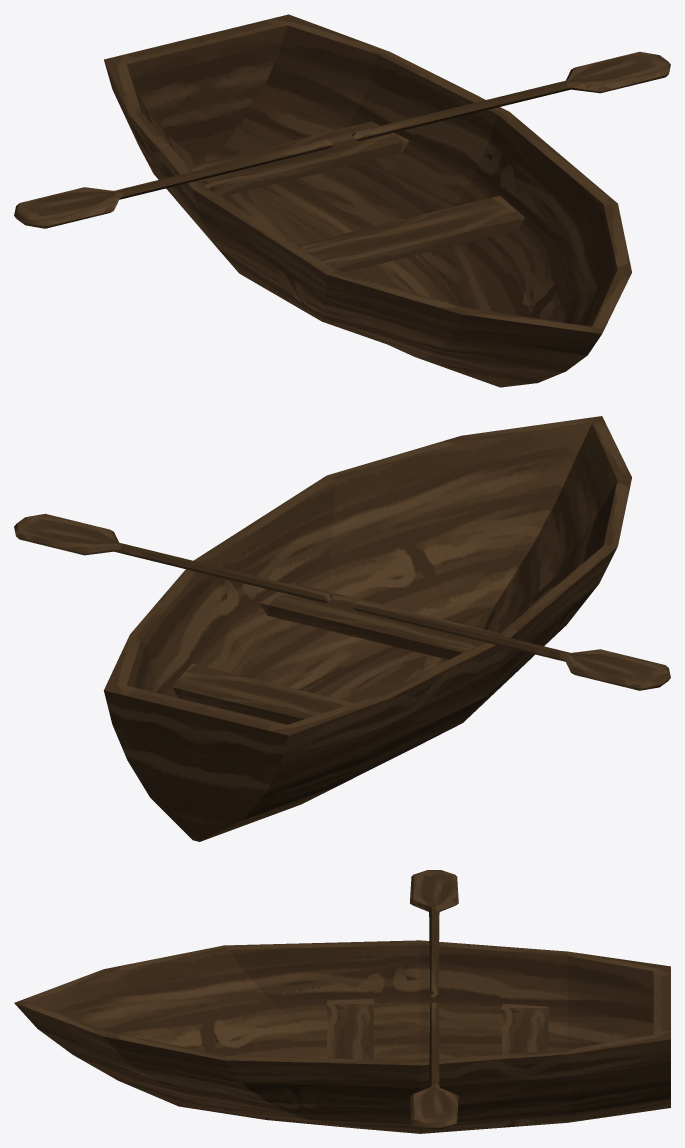
Rendered from RowBoat_Geo.fbx.
The picture shows the model from 3 angles, top to bottom: view 1: azimuth 30°, elevation 25°; view 2: azimuth 150°, elevation 25°; view 3: azimuth 270°, elevation 25°; orthographic projection. The views are drawn at different scales.
Visible parts, largest first — view 1: RowBoat_Geo, Paddle01_Geo, Paddle02_Geo; view 2: RowBoat_Geo, Paddle01_Geo, Paddle02_Geo; view 3: RowBoat_Geo, Paddle01_Geo, Paddle02_Geo.
Part boxes in pixels (x1,y1,x2,y2): RowBoat_Geo: (104, 14, 631, 387); Paddle01_Geo: (352, 51, 670, 141); Paddle02_Geo: (14, 139, 332, 228); RowBoat_Geo: (103, 416, 631, 841); Paddle01_Geo: (14, 513, 332, 603); Paddle02_Geo: (352, 601, 670, 690); RowBoat_Geo: (14, 940, 670, 1133); Paddle01_Geo: (409, 1002, 458, 1129); Paddle02_Geo: (410, 870, 458, 997).
Size of the model in its own units: 265 by 53.35 by 287.
